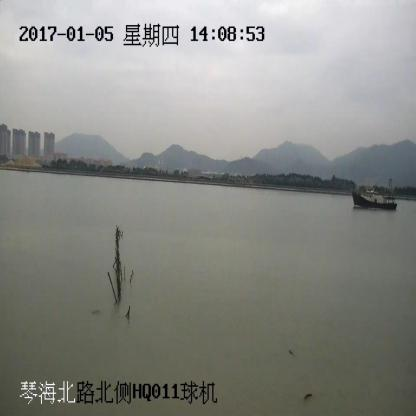Fishing Boat: (352, 187, 396, 210)
